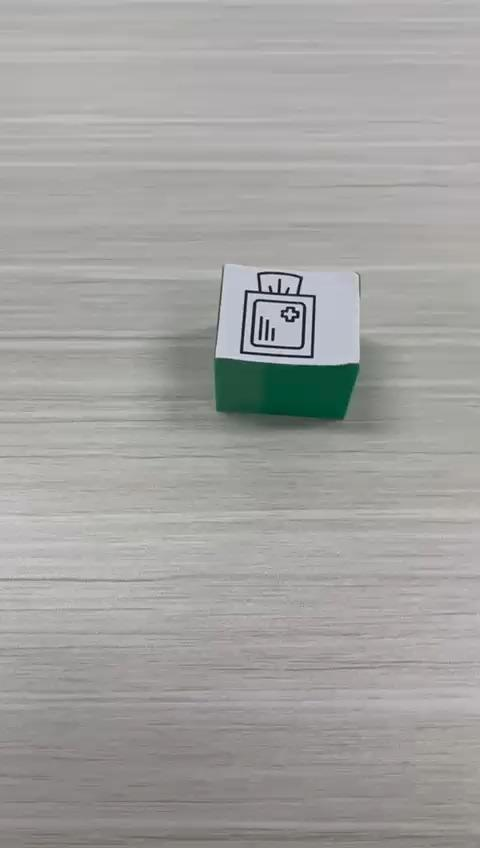Gauze: (212, 262, 361, 420)
